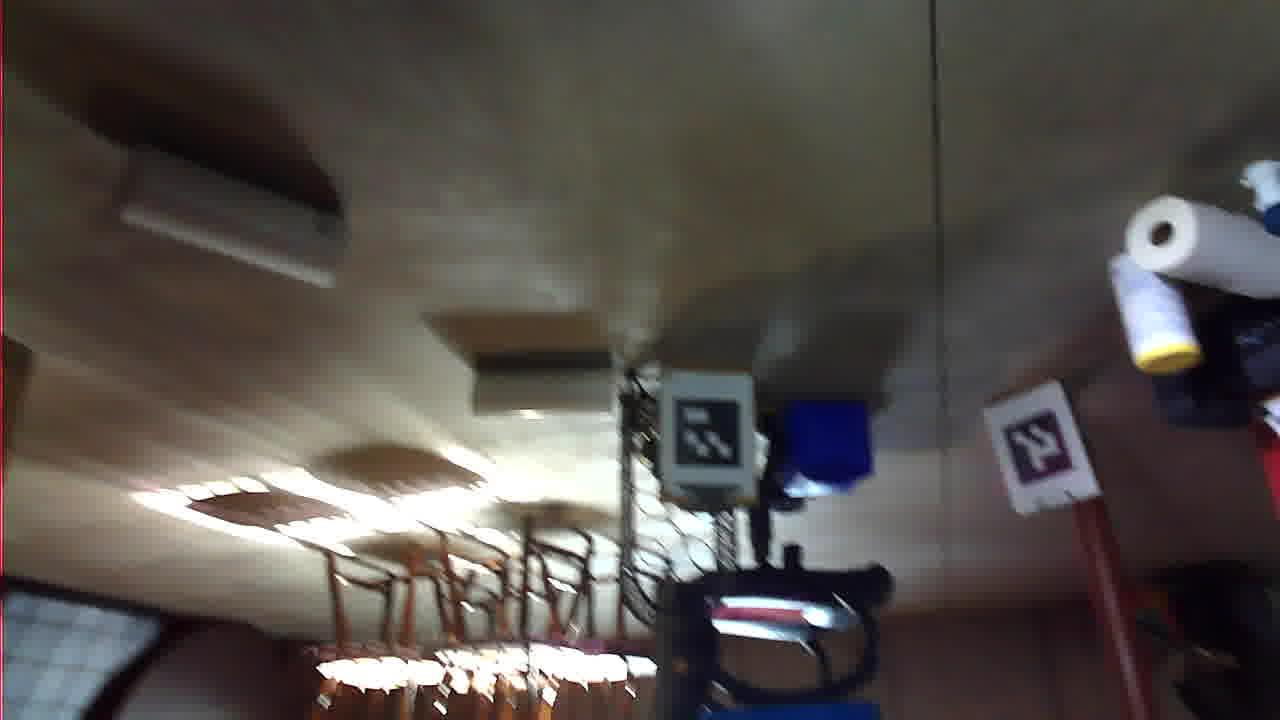coral: (939, 427, 1159, 577), (669, 303, 806, 353)
